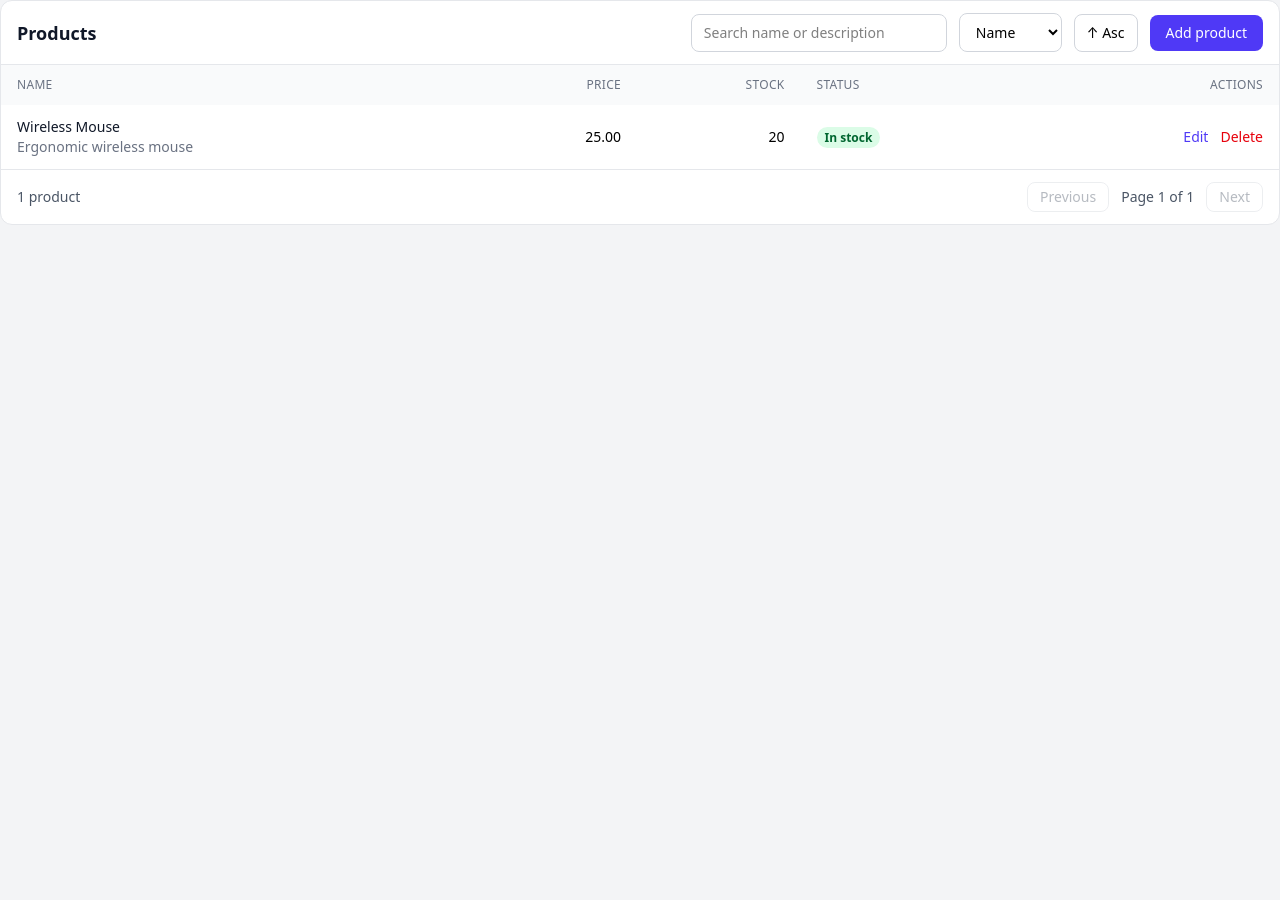
Test: ProductTable › does nothing when deletion is cancelled
Expected: the text "Wireless Mouse" is shown, 17,117 -> 120,136
Click the button with aria-label "Delete Wireless Mouse": x=1242, y=137 1220,127 -> 1263,147
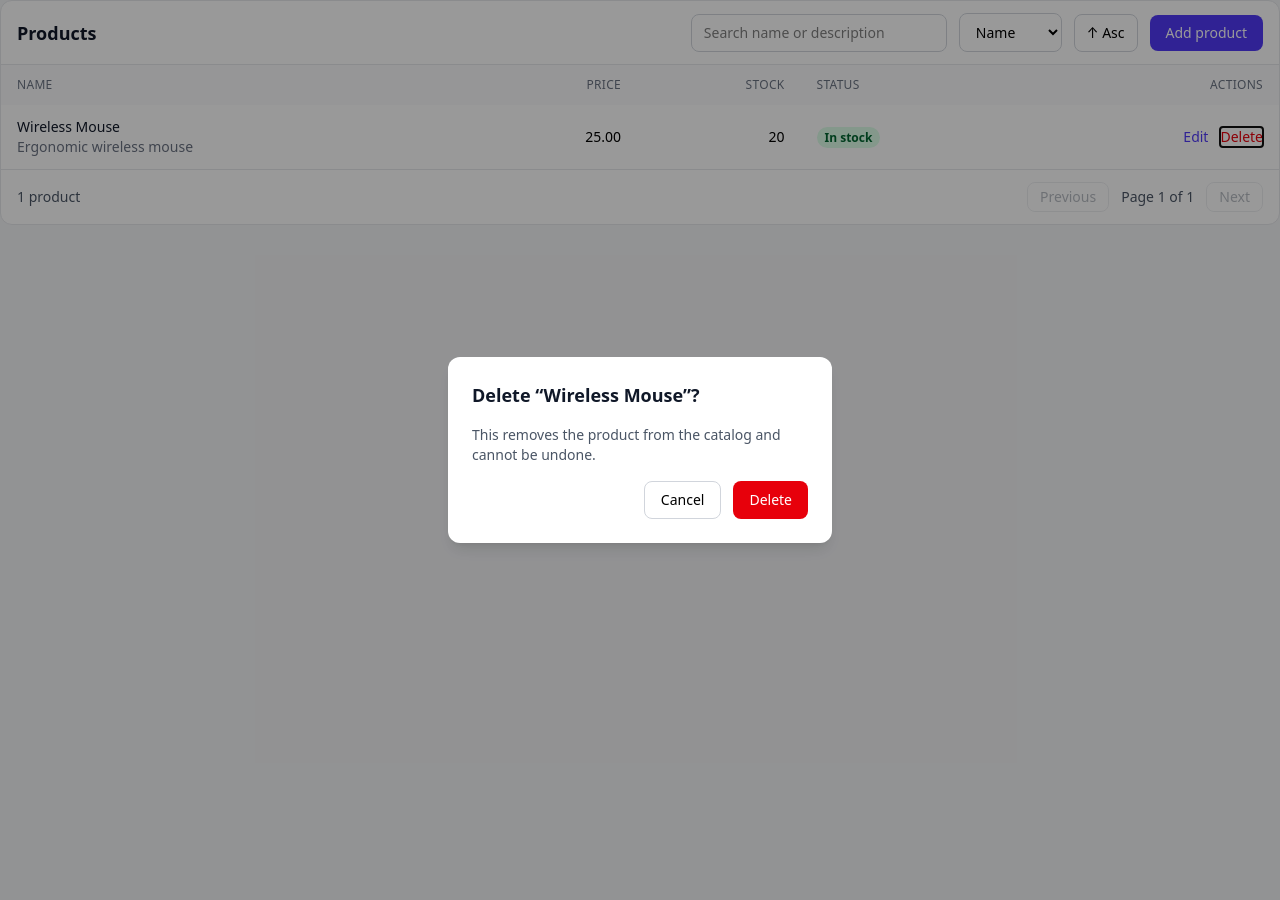
Click the button "Cancel": x=683, y=500 644,481 -> 721,519
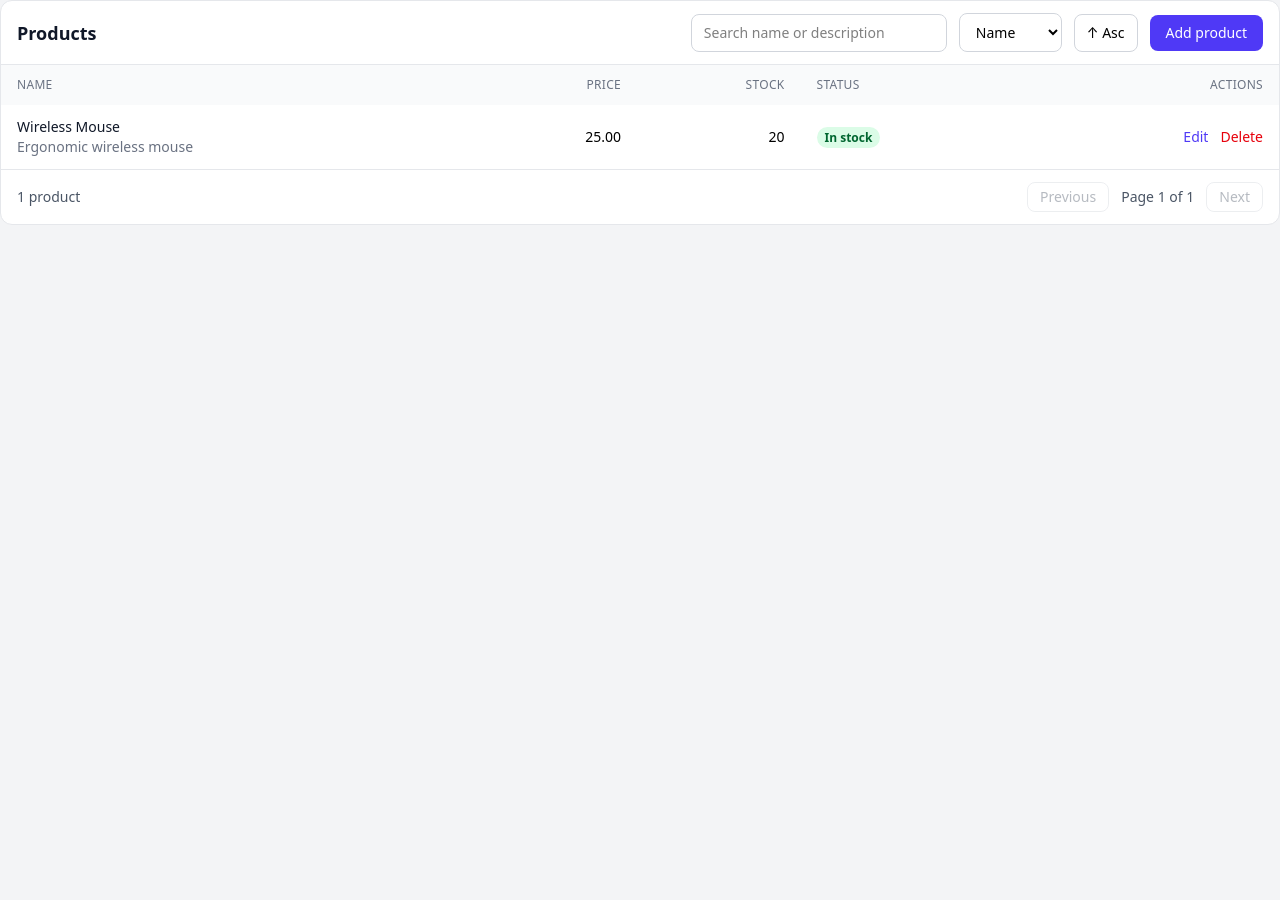
Now the dialog is gone
